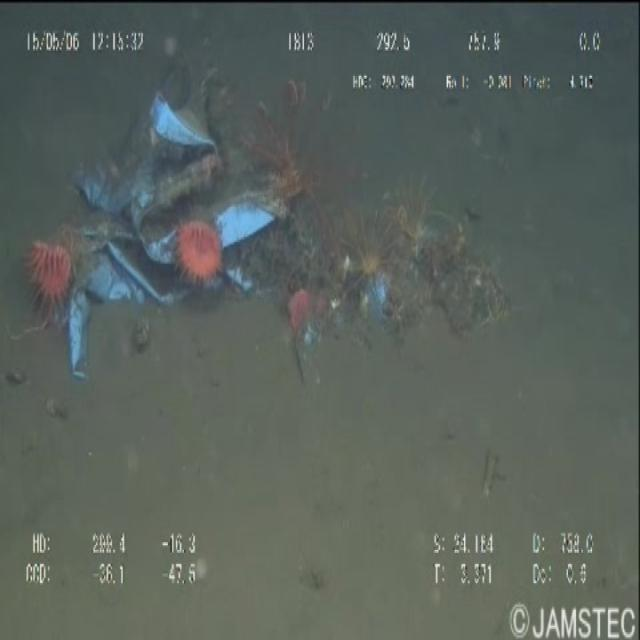Accessories: (36, 35, 310, 379)
